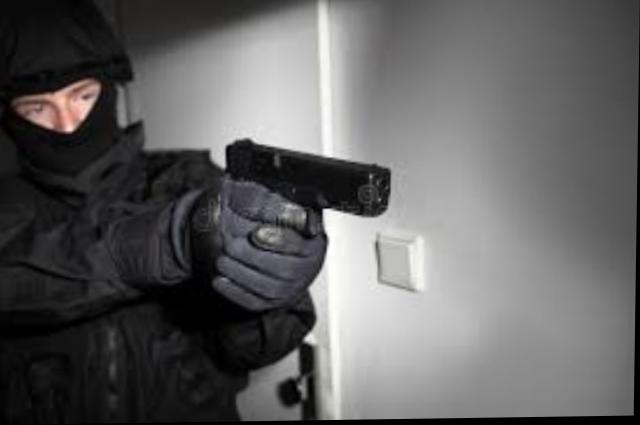other: (2, 30, 227, 390)
